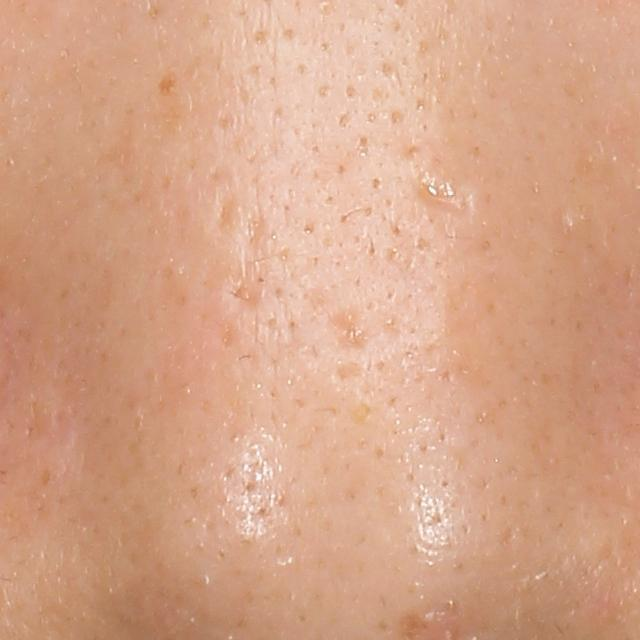atrophic_scar: (408, 172, 480, 224), (330, 300, 369, 354), (232, 275, 263, 316), (330, 358, 365, 389), (219, 193, 242, 232), (247, 216, 268, 257)
melasma: (158, 70, 178, 96)
